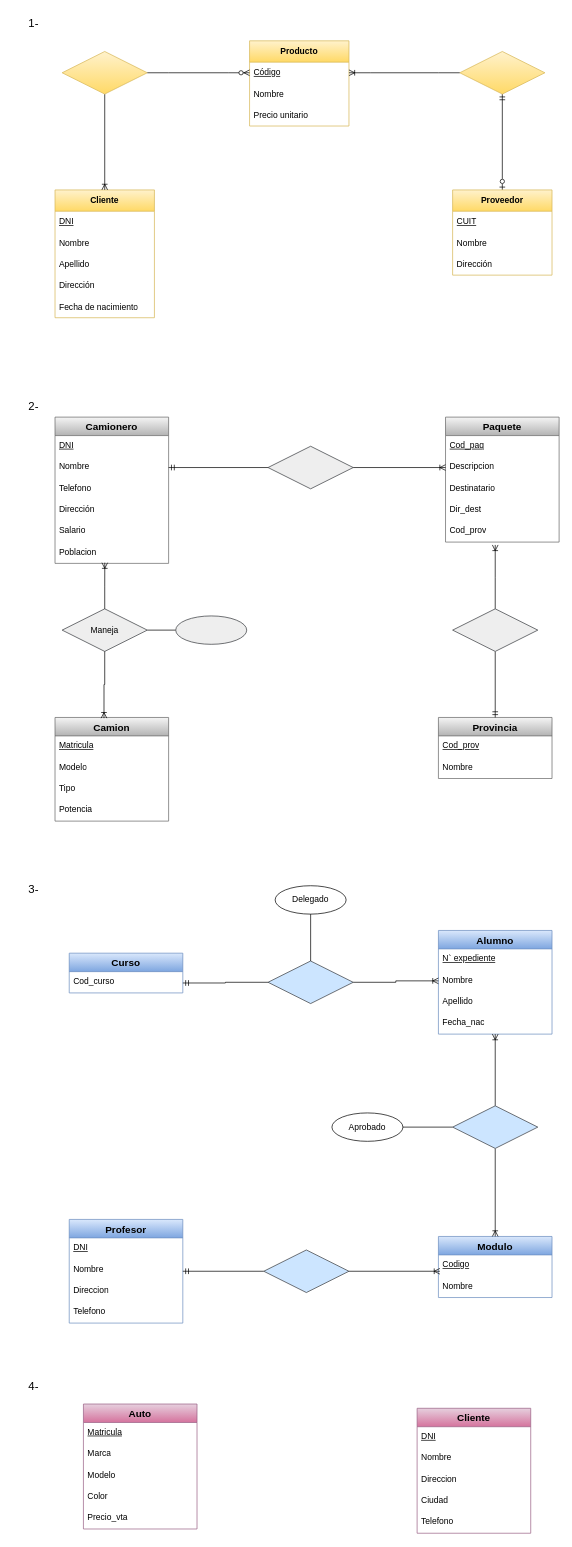
Image size: 572x1547. Some labels were removed from this diagram. Each missing label, with the centre of its shape:
"Compra" belongs at point (104, 72).
"Cursa" belongs at point (495, 1126).
"Destino" belongs at point (495, 629).
"Fecha" belongs at point (211, 629).
"Imparte" belongs at point (306, 1271).
"Participa" belongs at point (310, 982).
"Reparte" belongs at point (310, 467).
"Suministra" belongs at point (502, 72).
